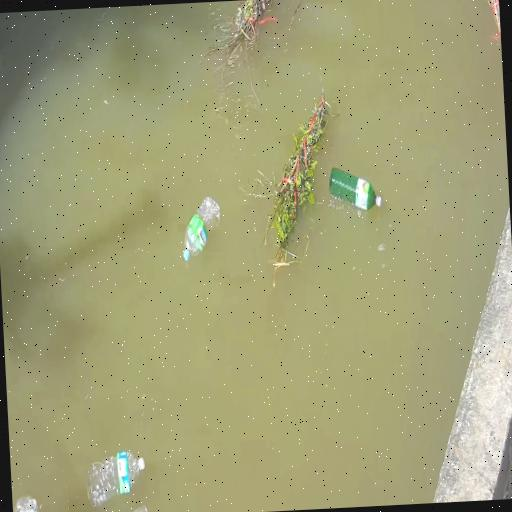plastic: (84, 450, 150, 506), (180, 194, 221, 266), (328, 164, 380, 214), (12, 491, 43, 512), (113, 504, 152, 512)
twig: (252, 84, 336, 258), (200, 0, 291, 81), (473, 0, 501, 38)
